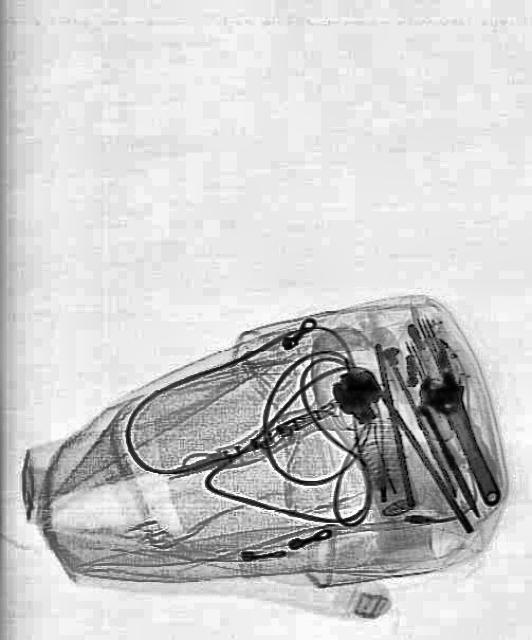Wrench: (420, 362, 508, 512)
